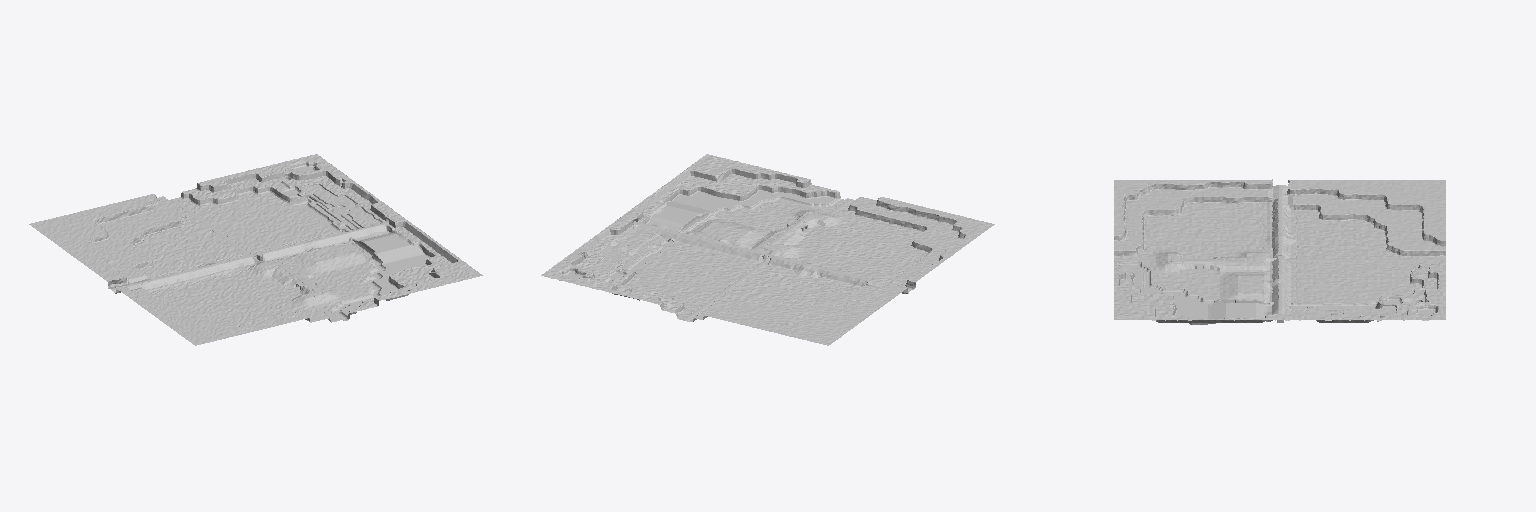
File: kordon7.obj
3 views of the same model, side by side, from view 1: azimuth 30°, elevation 25°; view 2: azimuth 150°, elevation 25°; view 3: azimuth 270°, elevation 25° (orthographic).
Parts seen in each view (by area): view 1: Terrain; view 2: Terrain; view 3: Terrain.
Boxes of the visible parts, x1,y1,x2,y2 form: Terrain: [29, 154, 482, 345]; Terrain: [541, 154, 994, 345]; Terrain: [1114, 179, 1445, 324].
Bounding box in the file's own units: 300 × 12.82 × 300.